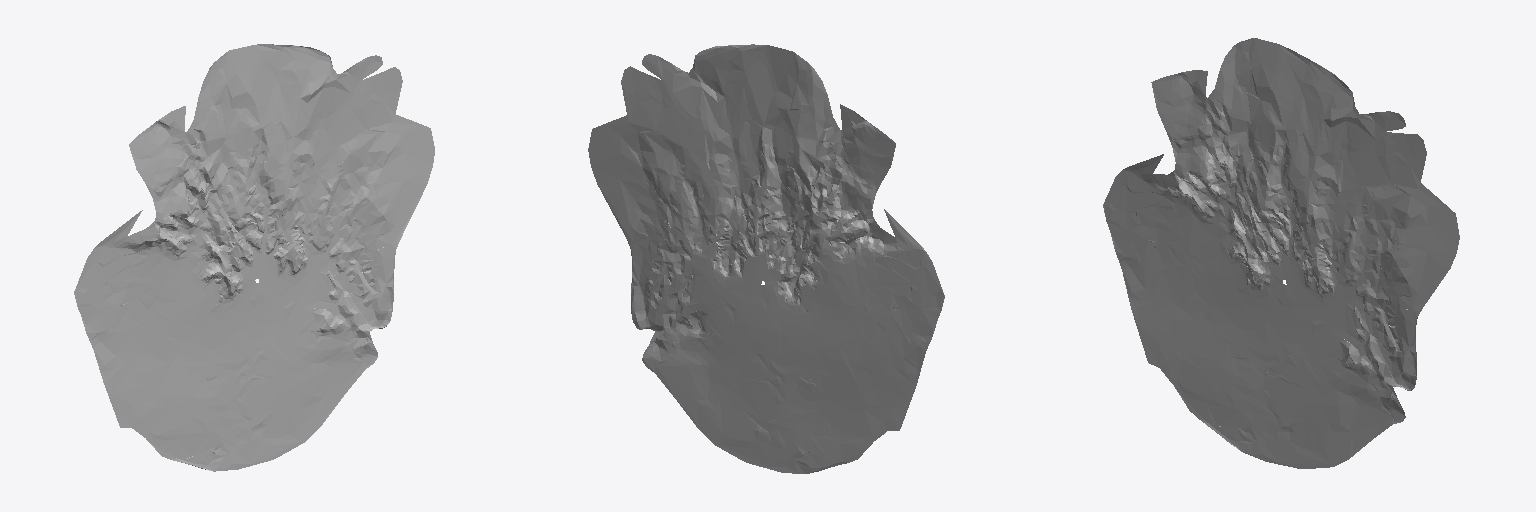
The model's file is dryLand_wHole.obj.
3 views of the same model, side by side, from view 1: azimuth 30°, elevation 25°; view 2: azimuth 150°, elevation 25°; view 3: azimuth 330°, elevation 25° (orthographic).
Size of the model in its own units: 77.9 by 87.61 by 2.01.